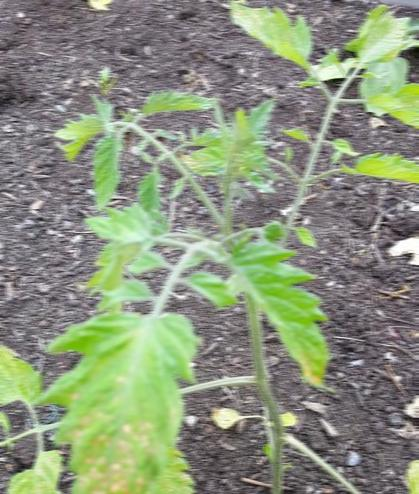Tomato leaf bacterial spot: (59, 279, 205, 494), (221, 235, 343, 390), (223, 0, 318, 80), (340, 2, 404, 79)
